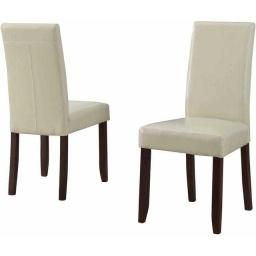Chair: (136, 23, 253, 236), (1, 25, 109, 201)
